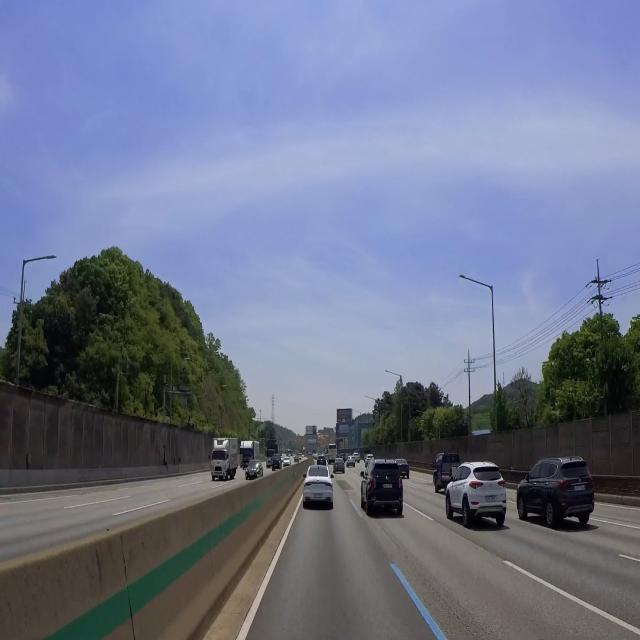car: (311, 489, 326, 502), (572, 482, 588, 494), (485, 492, 499, 505), (382, 480, 395, 494), (214, 469, 222, 479), (248, 469, 255, 479), (400, 470, 408, 477)
